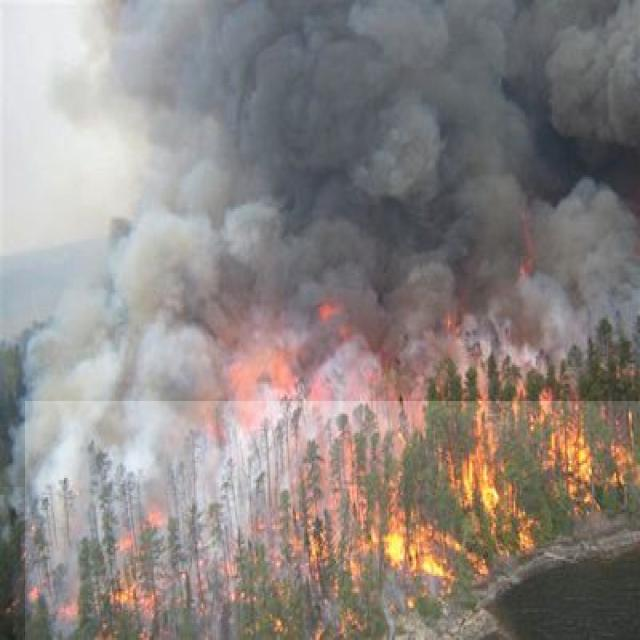Fire: (25, 401, 640, 640)
Smoke: (0, 0, 640, 487)
